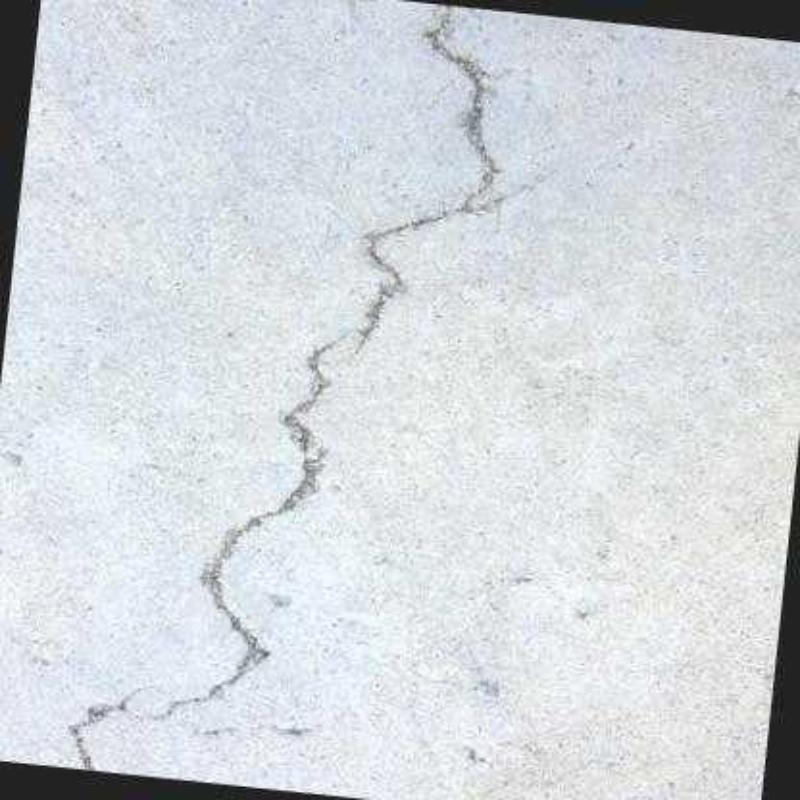pothole: (62, 1, 502, 770)
